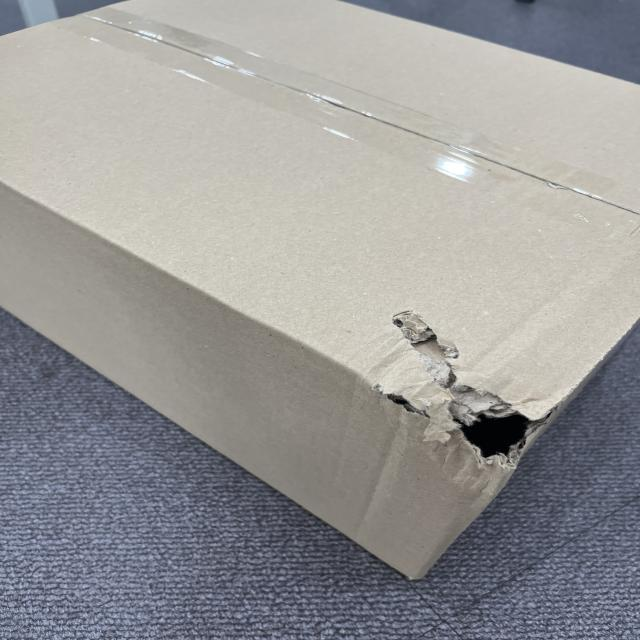hole: (390, 330, 539, 459)
